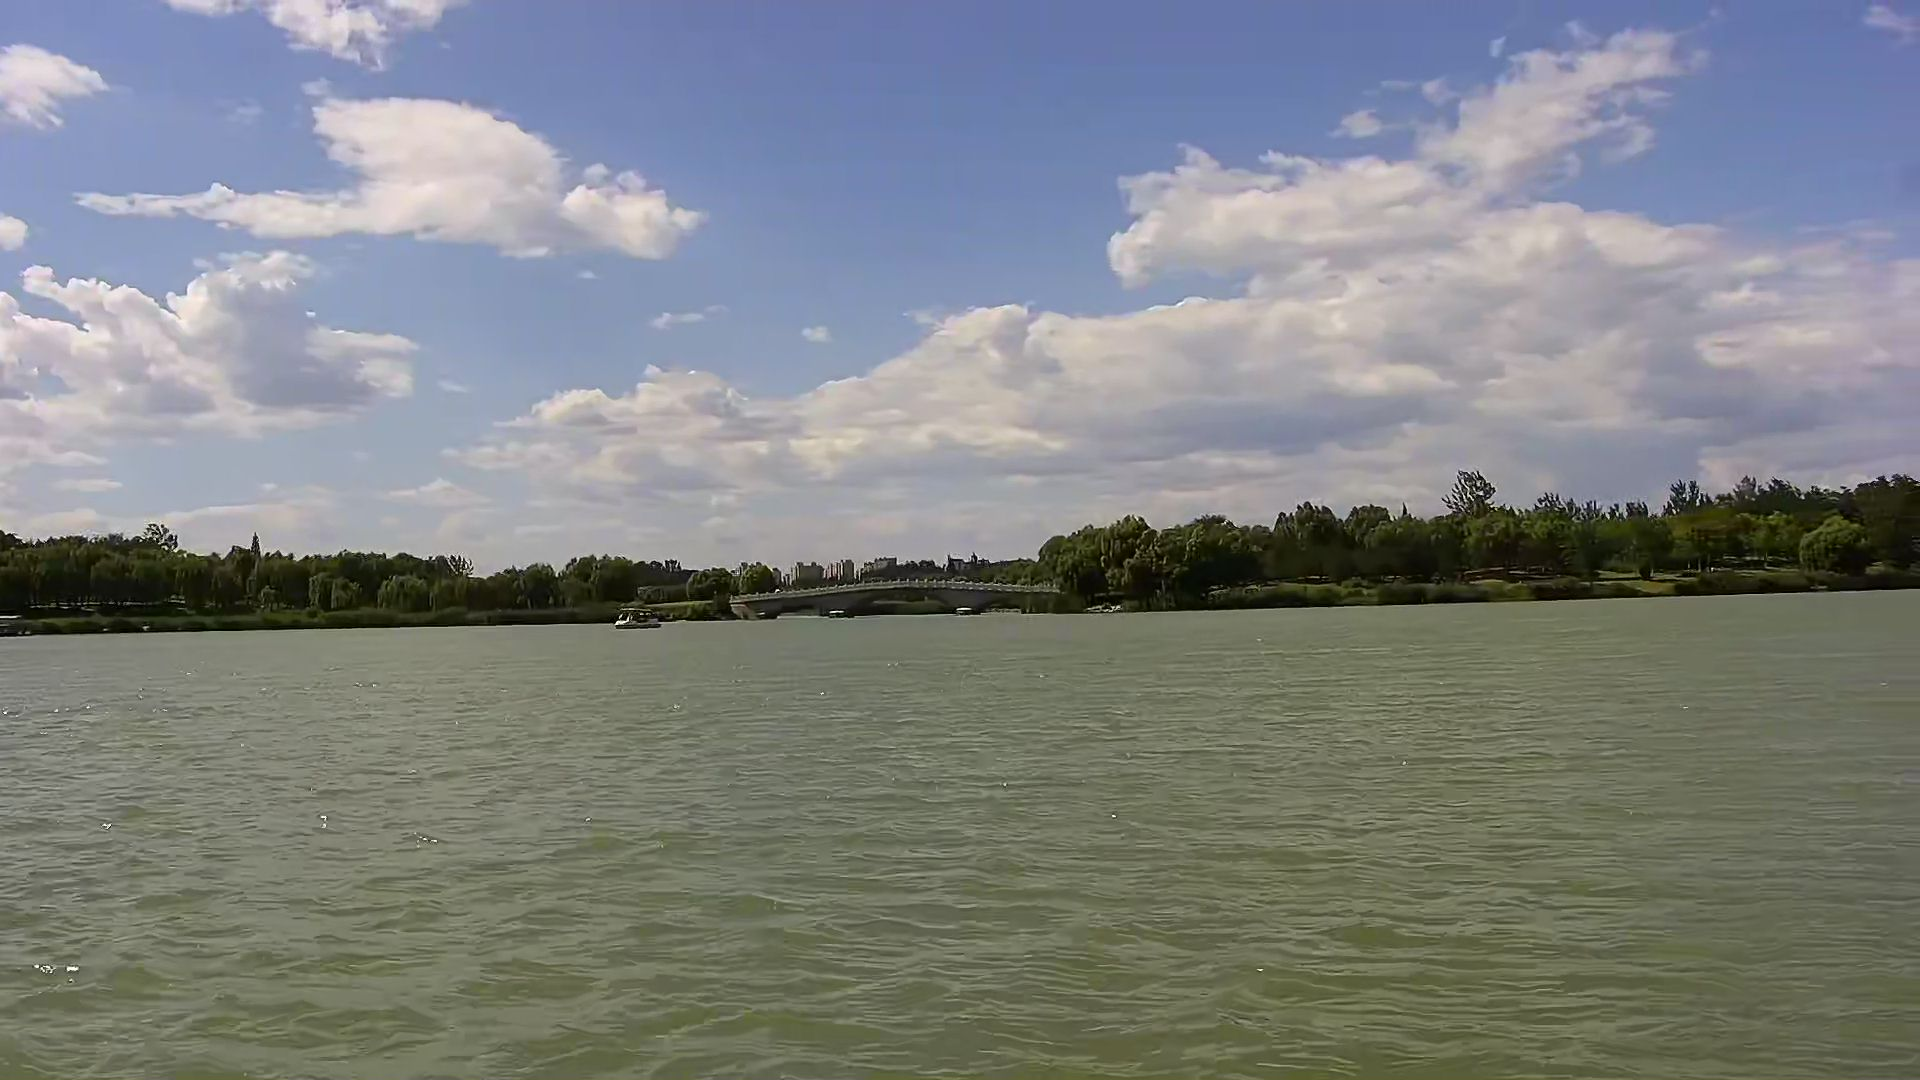boat: (611, 604, 659, 630)
bridge: (745, 578, 1065, 613)
